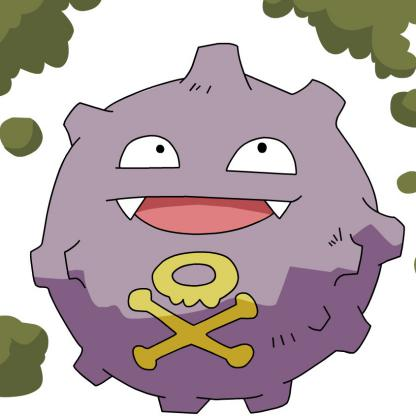Koffing: (29, 46, 408, 416)
